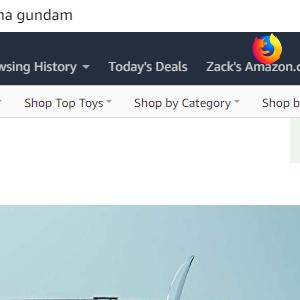firefox: (252, 33, 282, 64)
